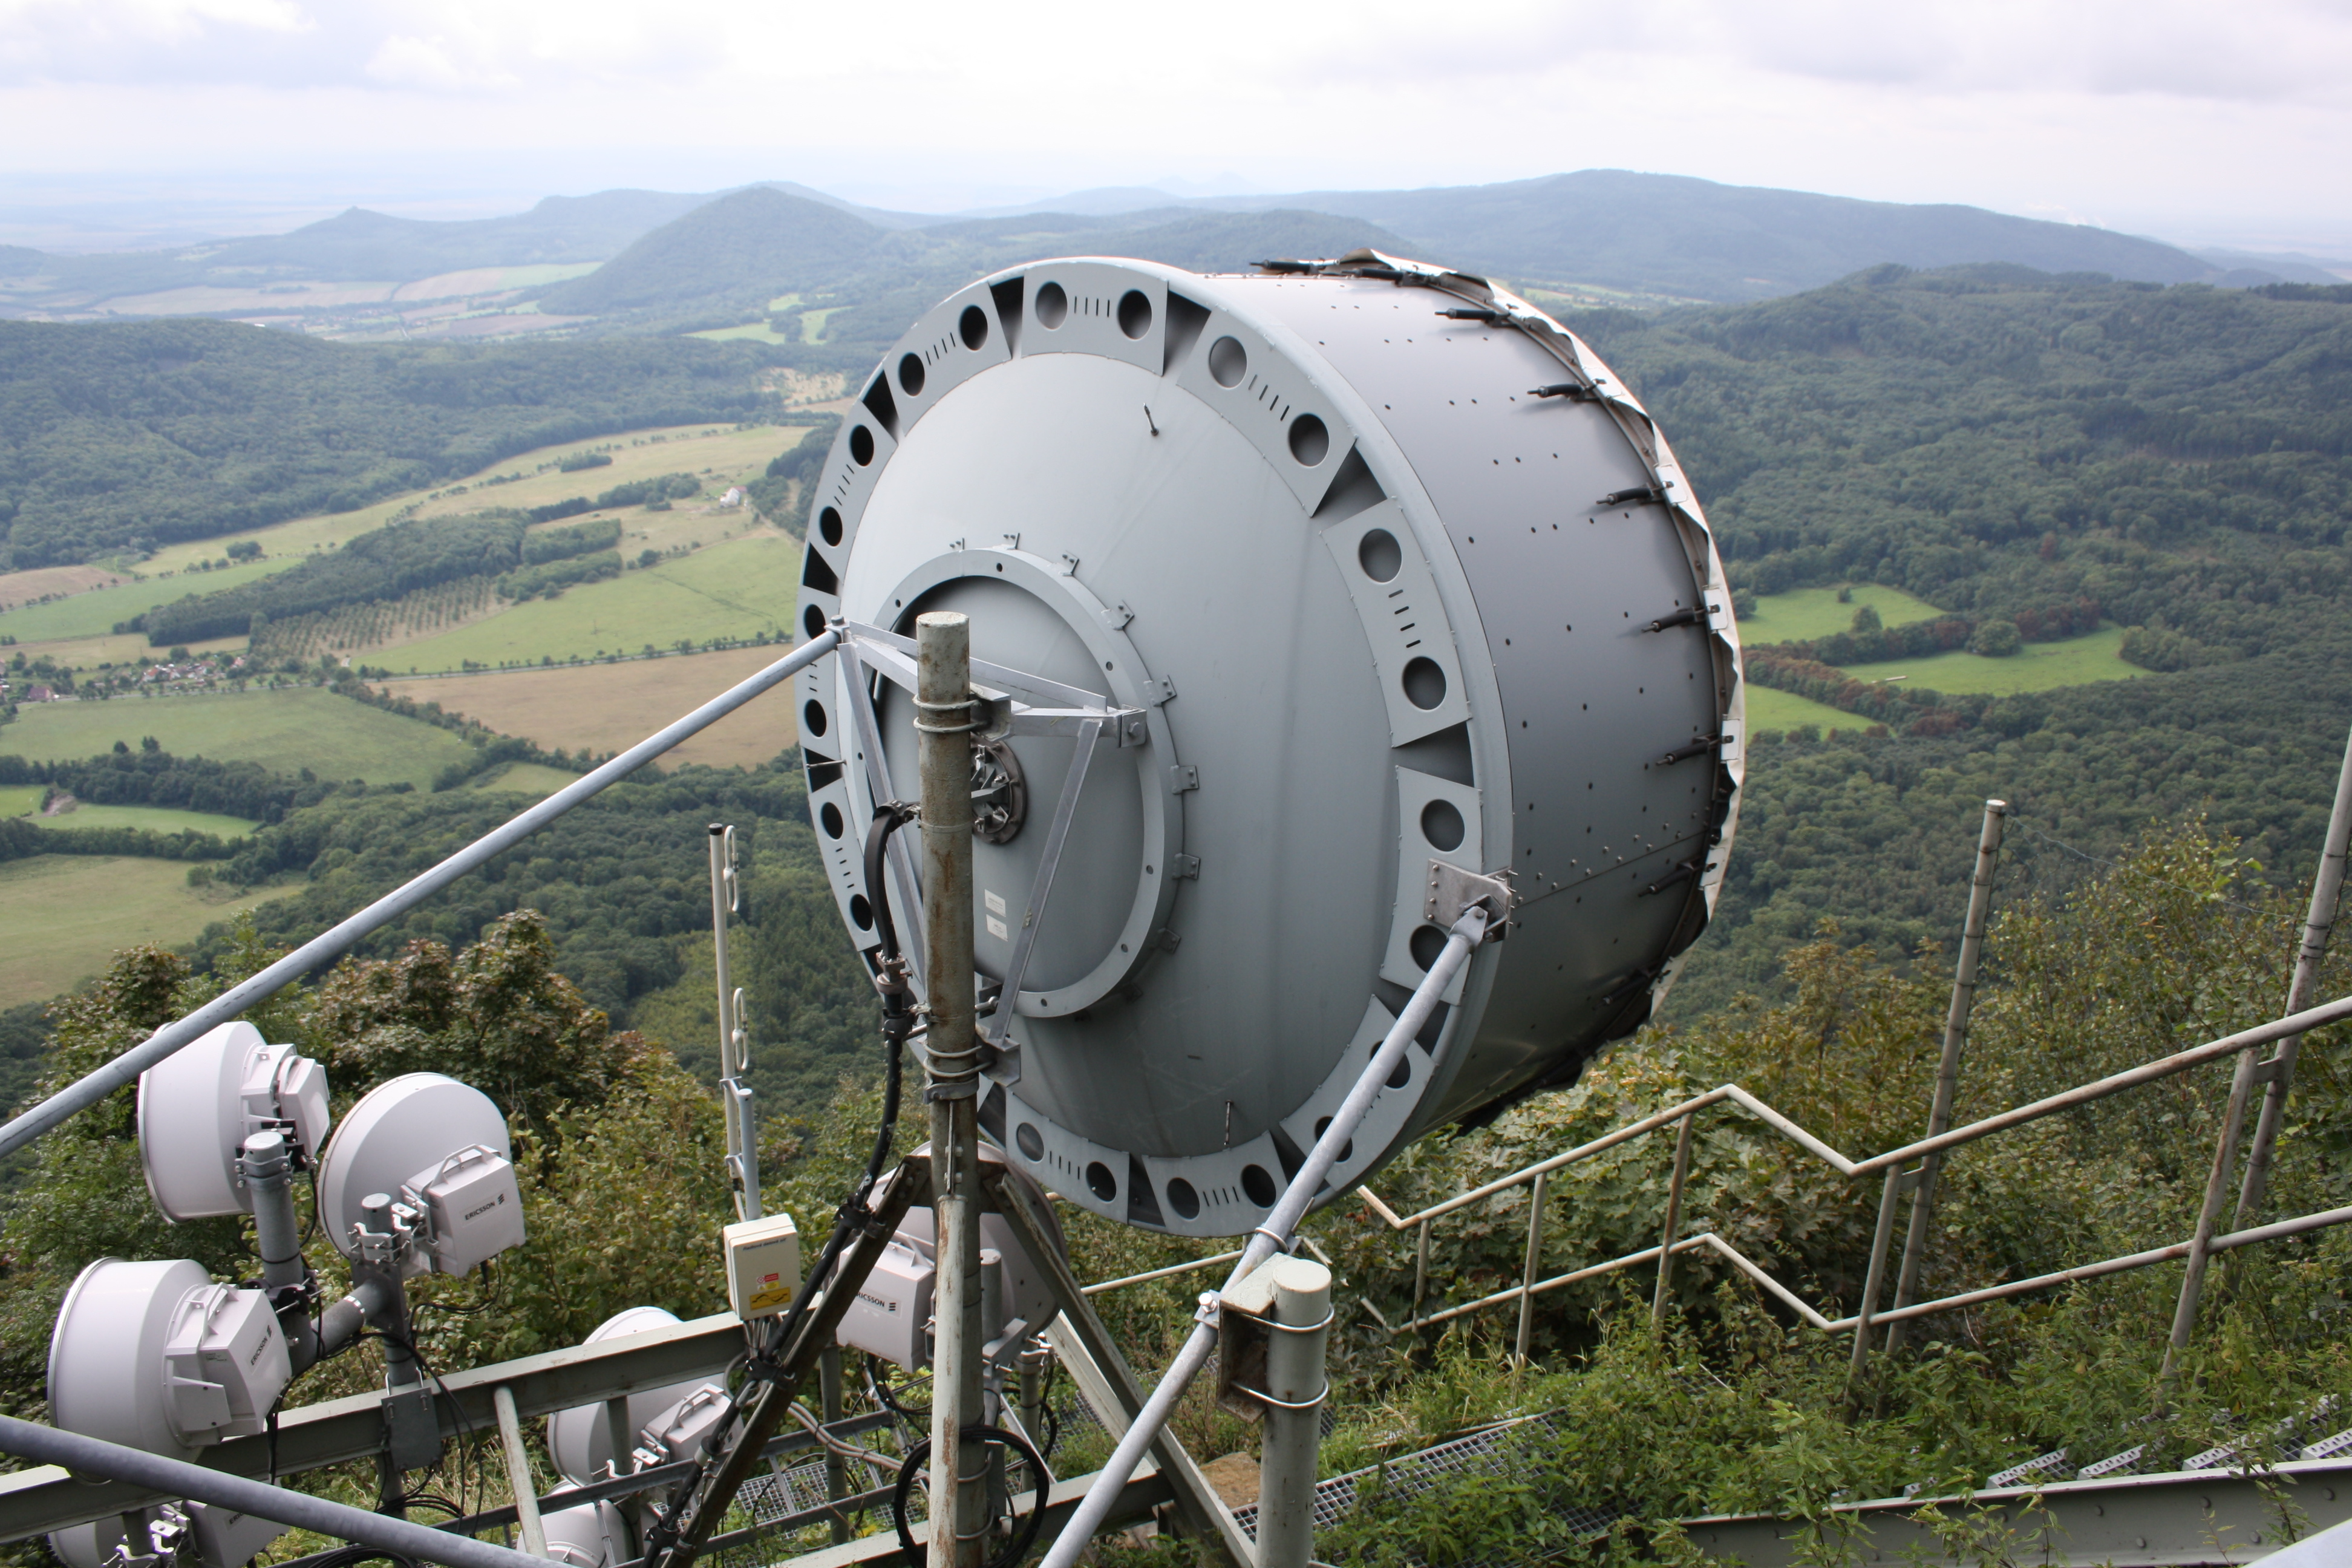ba: (738, 206, 1795, 1251), (315, 1055, 555, 1337), (23, 1251, 308, 1479), (91, 1004, 329, 1216)
